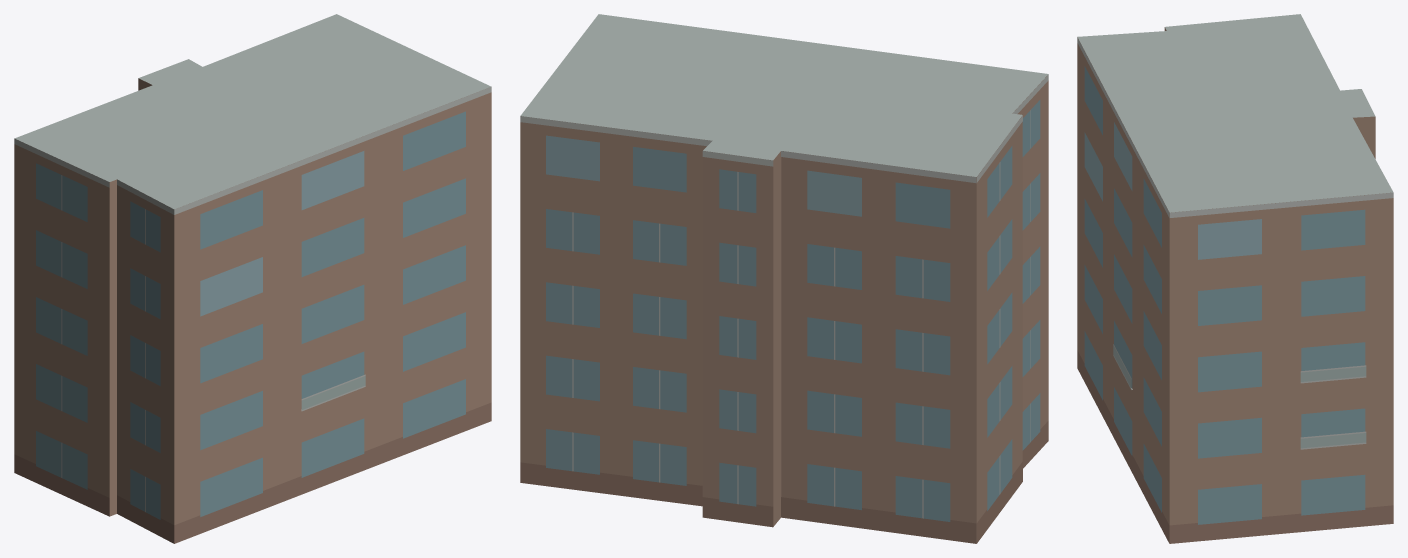
File: survey-upis-32586032.glb
3 renders of one model, left to right at view 1: azimuth 30°, elevation 25°; view 2: azimuth 150°, elevation 25°; view 3: azimuth 270°, elevation 25°, orthographic. The views are drawn at different scales.
Parts seen in each view (by area): view 1: survey-upis-32586032.tmp; view 2: survey-upis-32586032.tmp; view 3: survey-upis-32586032.tmp.
Boxes of the visible parts, x1,y1,x2,y2 form: survey-upis-32586032.tmp: (14,14,491,543); survey-upis-32586032.tmp: (520,14,1048,543); survey-upis-32586032.tmp: (1077,14,1393,543).
Bounding box in the file's own units: 18.65 × 14.5 × 12.56.
